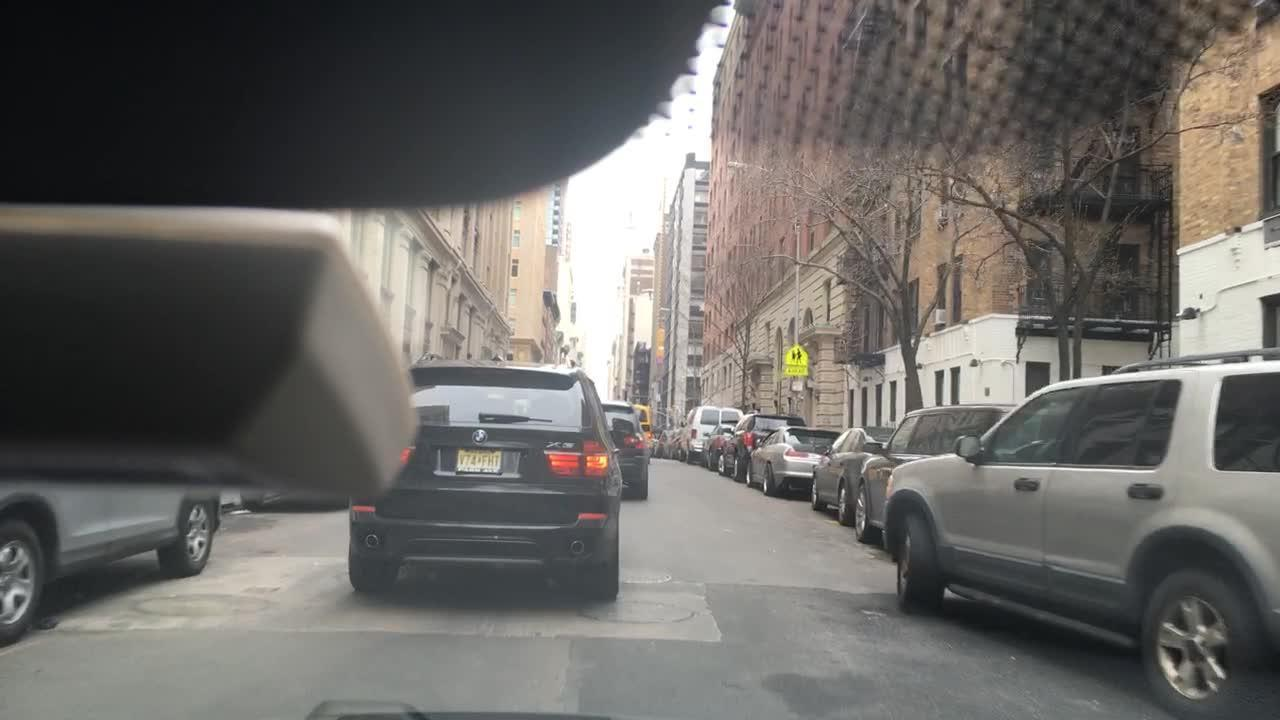bmw: (469, 426, 492, 447)
